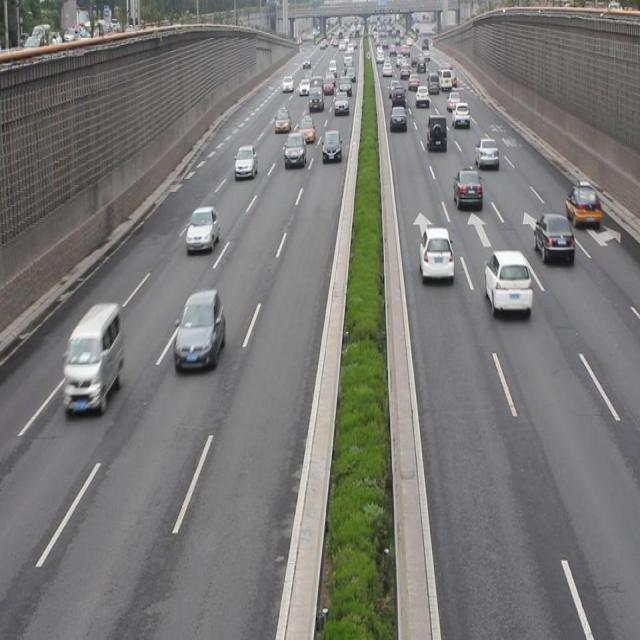car: (173, 289, 226, 374), (483, 249, 531, 309), (532, 211, 573, 265), (418, 226, 452, 279), (565, 181, 600, 230), (185, 203, 219, 253), (452, 167, 481, 210), (234, 144, 258, 180), (283, 131, 307, 166), (425, 114, 447, 152), (474, 136, 498, 170), (320, 129, 342, 164), (296, 115, 314, 143), (273, 105, 290, 134), (389, 105, 407, 132), (452, 102, 468, 127)
truck: (62, 300, 123, 413)
